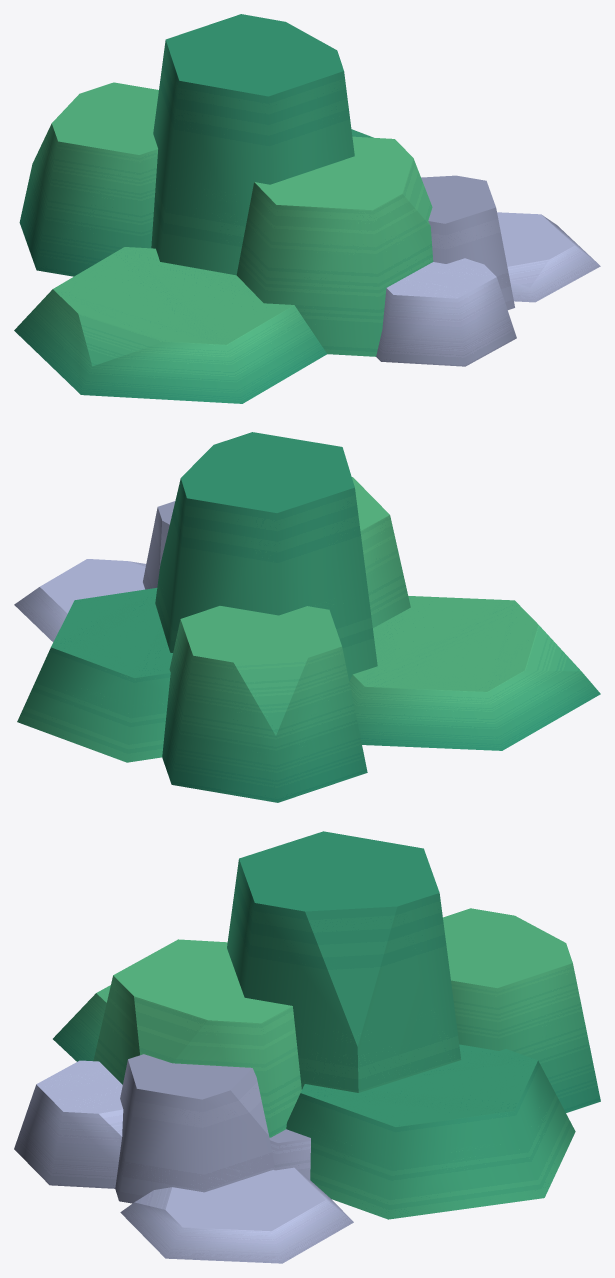
File: boulders.glb
The picture shows the model from 3 angles, top to bottom: view 1: azimuth 30°, elevation 25°; view 2: azimuth 150°, elevation 25°; view 3: azimuth 270°, elevation 25°; orthographic projection. The views are drawn at different scales.
Visible parts, largest first — view 1: boulders; view 2: boulders; view 3: boulders.
Part boxes in pixels (<box>): boulders: <box>14,14,600,403</box>; boulders: <box>14,432,600,802</box>; boulders: <box>14,831,600,1263</box>.
Bounding box in the file's own units: 1.06 × 0.4145 × 0.9197.
2 materials, 2 textured.
